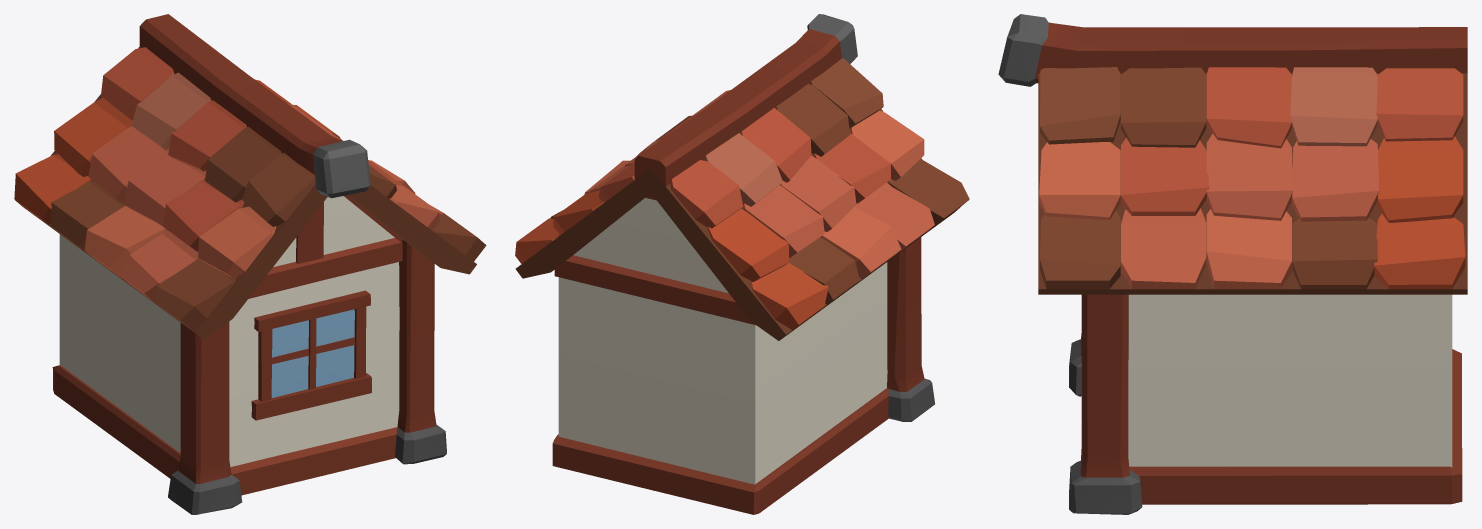
Rendered from House_1Floor_Side_E.fbx.
3 views of the same model, side by side, from view 1: azimuth 30°, elevation 25°; view 2: azimuth 150°, elevation 25°; view 3: azimuth 270°, elevation 25° (orthographic). The views are drawn at different scales.
Parts seen in each view (by area): view 1: House_1Floor_Side_E; view 2: House_1Floor_Side_E; view 3: House_1Floor_Side_E.
Boxes of the visible parts, bbox=[...] form: House_1Floor_Side_E: bbox=[14, 14, 486, 514]; House_1Floor_Side_E: bbox=[515, 14, 969, 514]; House_1Floor_Side_E: bbox=[998, 14, 1467, 514].
Bounding box in the file's own units: 259 × 288 × 290.
